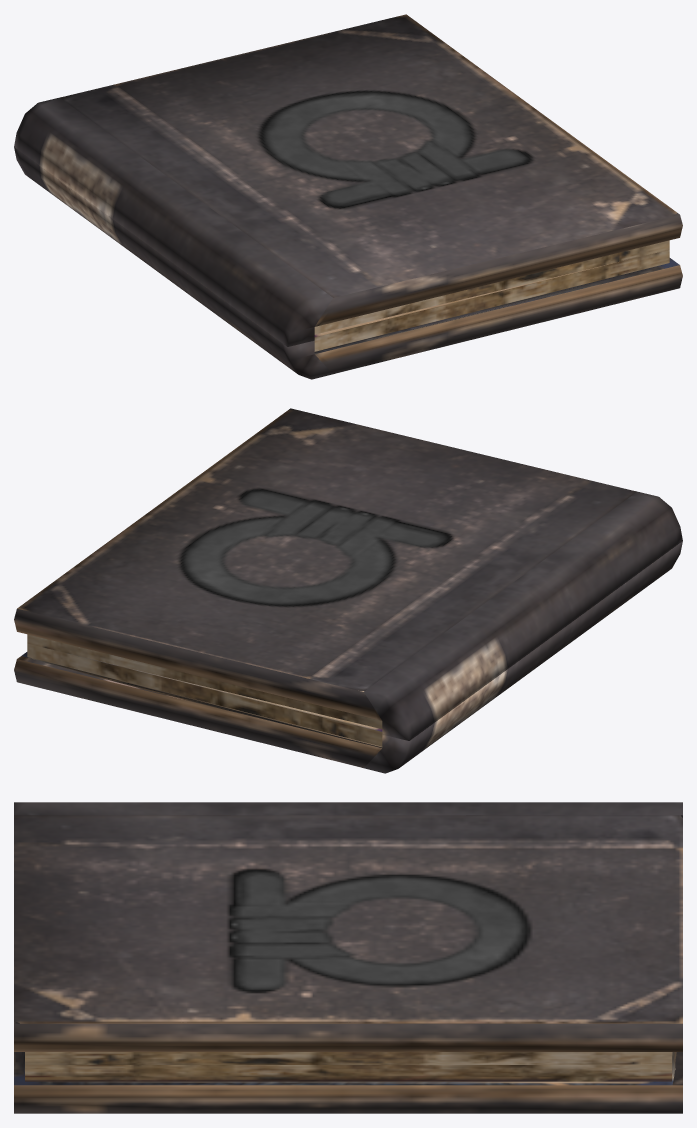
The model's file is book1.fbx.
3 views of the same model, one above another, from view 1: azimuth 30°, elevation 25°; view 2: azimuth 150°, elevation 25°; view 3: azimuth 270°, elevation 25° (orthographic). The views are drawn at different scales.
Visible parts, largest first — view 1: Book_Top, Book_Bottom; view 2: Book_Top, Book_Bottom; view 3: Book_Top, Book_Bottom.
Boxes of the visible parts, left/top/right/bottom form: Book_Top: left=14, top=14, right=682, bottom=346; Book_Bottom: left=14, top=147, right=682, bottom=379; Book_Top: left=14, top=408, right=682, bottom=740; Book_Bottom: left=14, top=541, right=682, bottom=773; Book_Top: left=14, top=802, right=682, bottom=1064; Book_Bottom: left=14, top=1052, right=682, bottom=1113.
Size of the model in its own units: 30.21 by 5.59 by 36.22.
